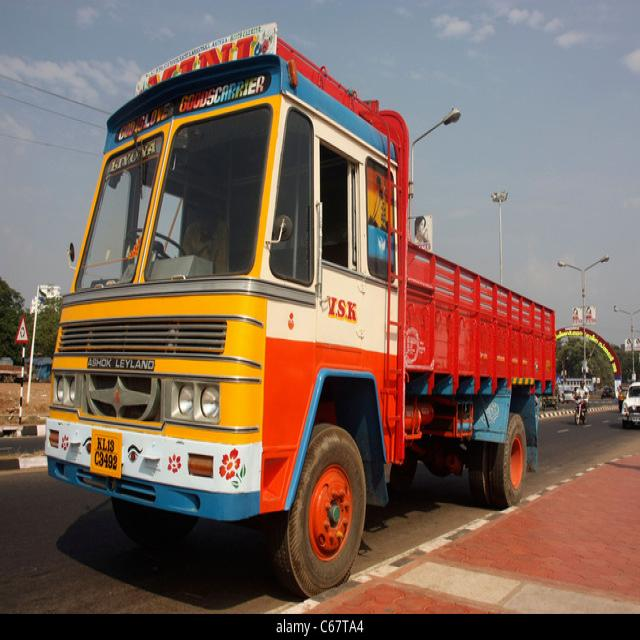normal_truck: (46, 23, 555, 596)
